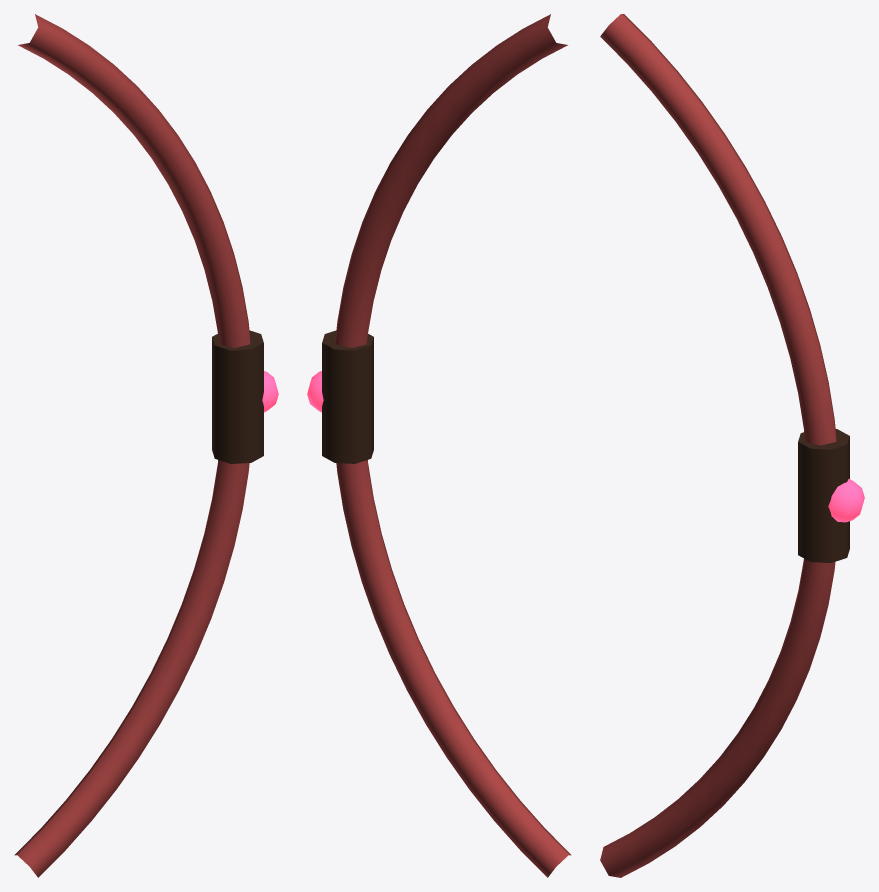
File: bow_f2_fb9a2abe.glb
The picture shows the model from 3 angles, left to right: view 1: azimuth 30°, elevation 25°; view 2: azimuth 150°, elevation 25°; view 3: azimuth 330°, elevation 25°; orthographic projection.
Parts seen in each view (by area): view 1: m0_ow80_, m1_ow80_; view 2: m0_ow80_, m1_ow80_; view 3: m0_ow80_, m1_ow80_, m2_gm160_.
Boxes of the visible parts, x1,y1,x2,y2 form: m0_ow80_: [14, 14, 250, 877]; m1_ow80_: [212, 330, 263, 463]; m0_ow80_: [335, 14, 571, 877]; m1_ow80_: [322, 330, 373, 463]; m0_ow80_: [600, 14, 836, 877]; m1_ow80_: [798, 429, 849, 563]; m2_gm160_: [828, 479, 864, 522].
Bounding box in the file's own units: 0.6699 × 2.13 × 0.12.
